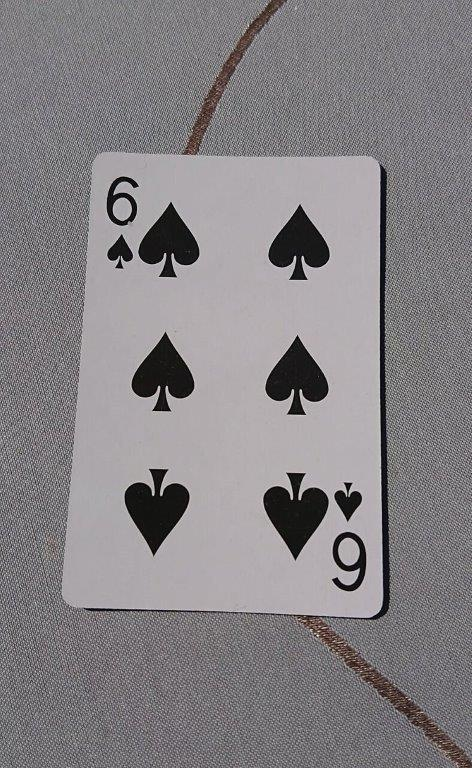6S: (60, 149, 385, 621)
